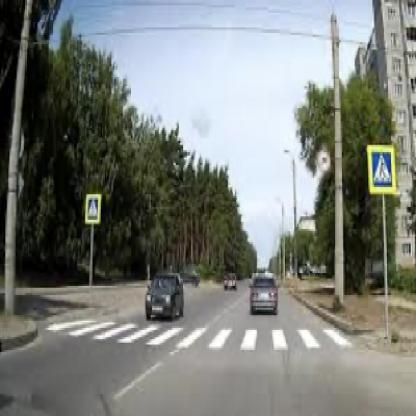crosswalk: (370, 148, 392, 181), (86, 194, 97, 216)
